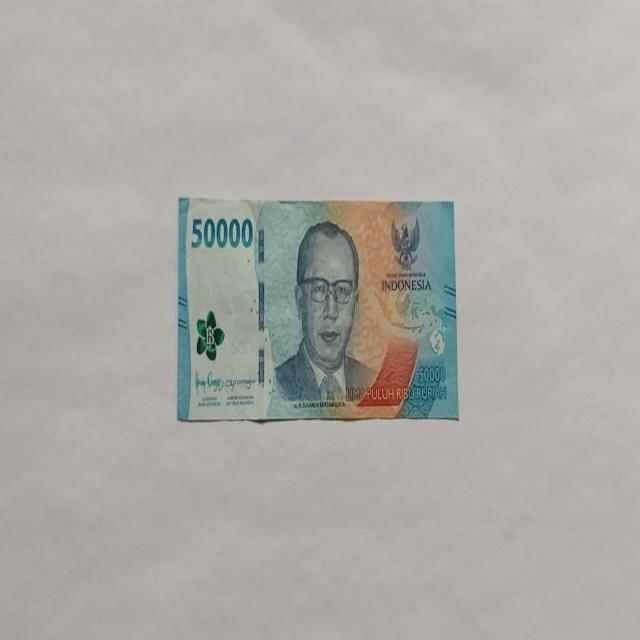lima puluh ribu rupiah: (176, 194, 458, 423), (270, 218, 378, 406)
